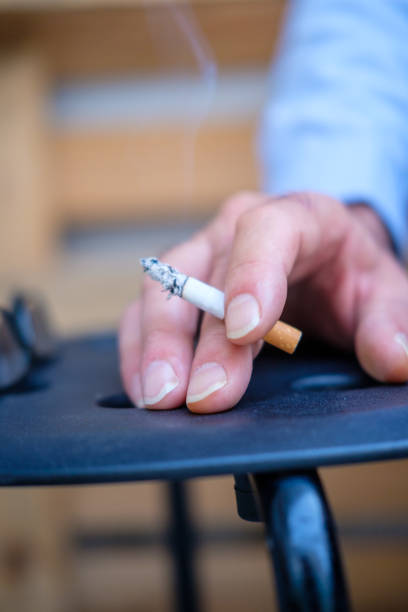cigarette: (142, 250, 303, 355)
